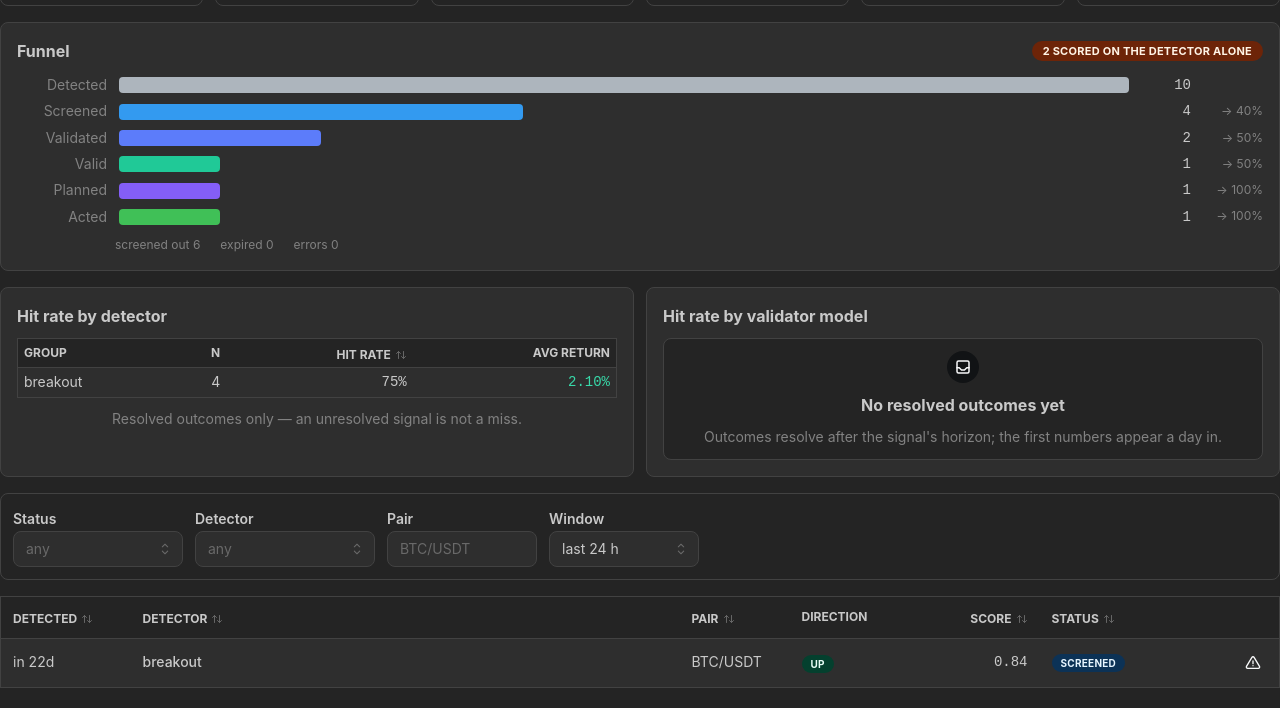
SignalsPage › opens the detail drawer with the validator counter-evidence
The width and height of the screenshot is (1280, 708).
(page scrolled)
# click the LIST row (the pair only appears there, not in the hit-rate table)
Click the text "BTC/USDT" at (727, 662), box [692,653,762,670]
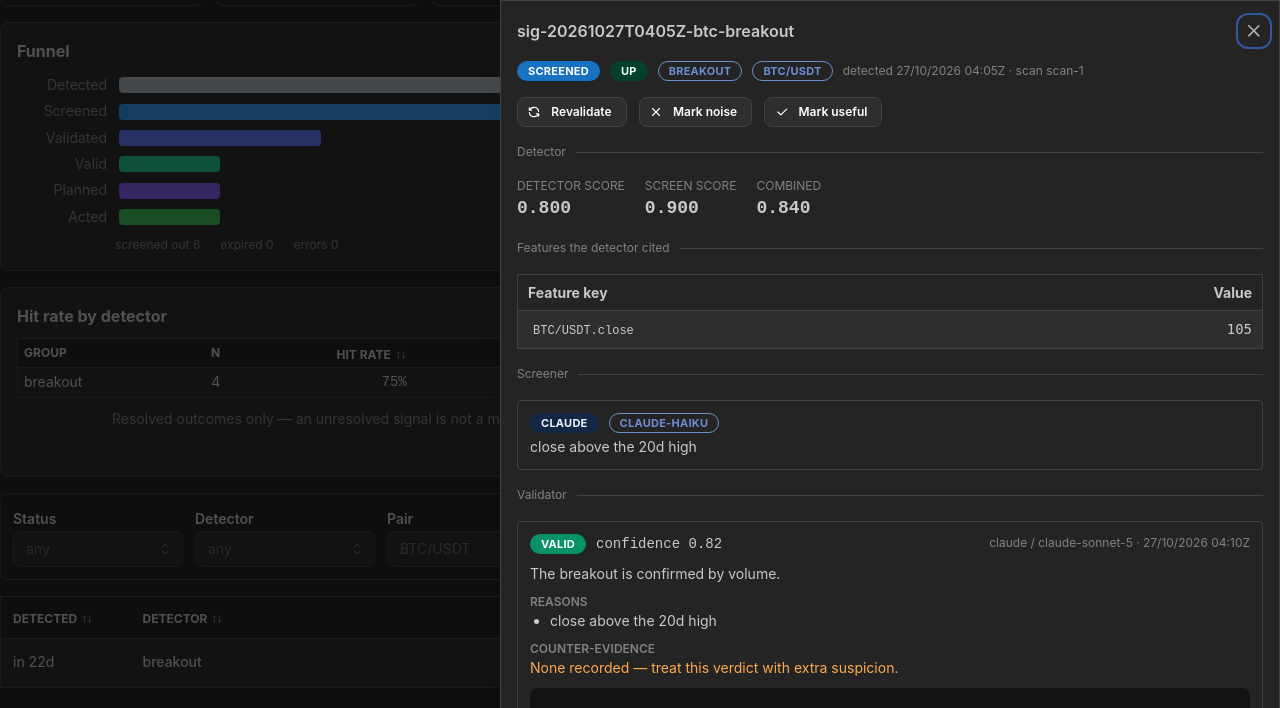
Expected: the text "Counter-evidence" is shown, [530,641,655,656]
Expected: the text "None recorded — treat this verdict with extra suspicion." is shown, [530,659,898,676]
Expected: the text "BTC/USDT.close" is shown, [528,322,639,340]
